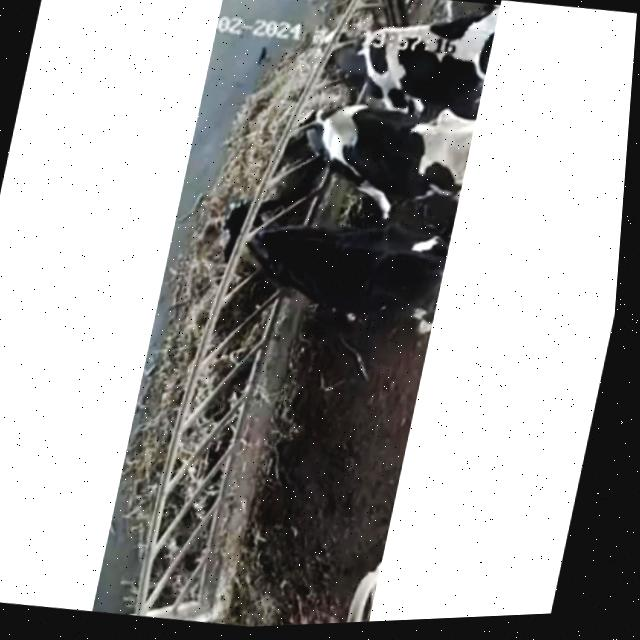eat: (178, 166, 349, 313), (229, 62, 405, 189)
